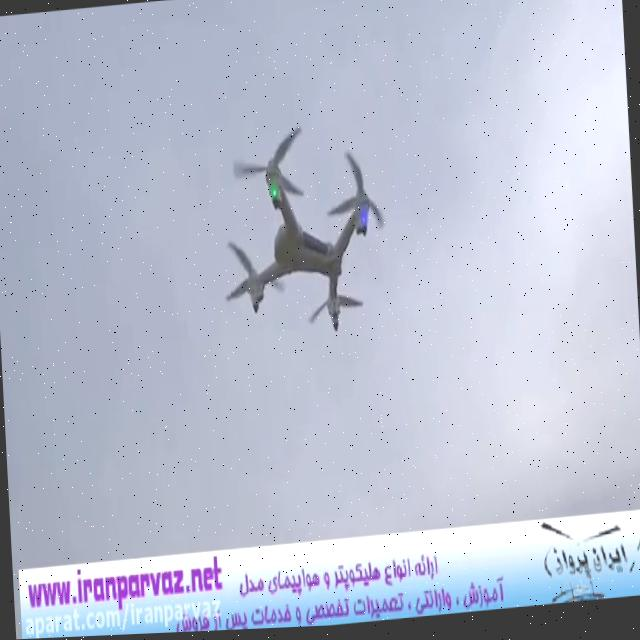drone: (210, 115, 394, 350)
